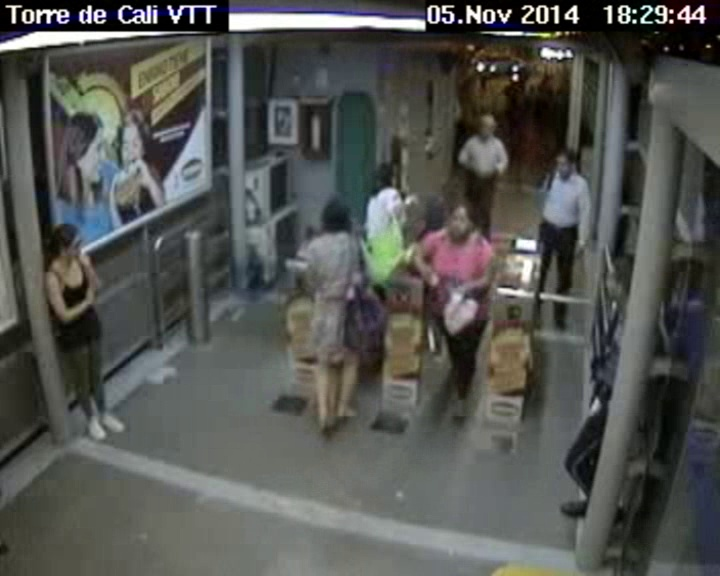person: (41, 221, 90, 271), (603, 247, 642, 305), (317, 194, 359, 245), (444, 200, 480, 251), (549, 146, 586, 185), (371, 160, 404, 194), (467, 111, 497, 142)
